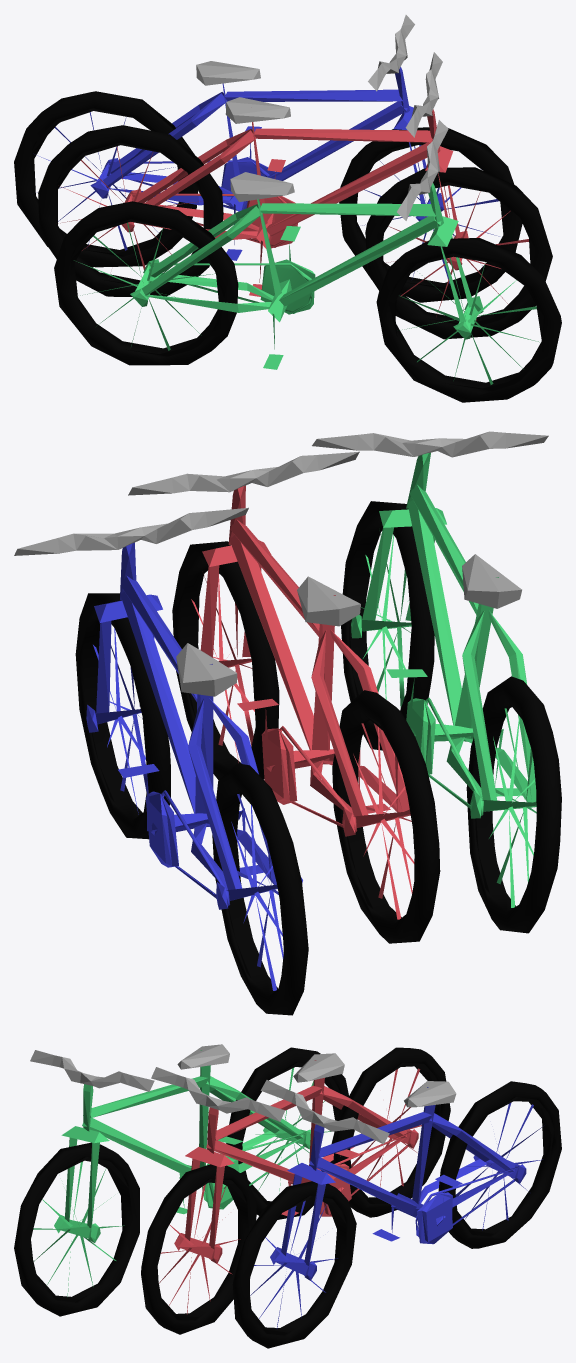
Rendered from bikes.fbx.
3 views of the same model, one above another, from view 1: azimuth 30°, elevation 25°; view 2: azimuth 150°, elevation 25°; view 3: azimuth 270°, elevation 25° (orthographic). The views are drawn at different scales.
Parts seen in each view (by area): view 1: Object010.001, Object010.002, Object010.003; view 2: Object010.003, Object010.002, Object010.001; view 3: Object010.003, Object010.002, Object010.001.
Boxes of the visible parts, bbox=[...] form: Object010.001: bbox=[54, 120, 561, 402]; Object010.002: bbox=[38, 52, 552, 339]; Object010.003: bbox=[14, 15, 522, 302]; Object010.003: bbox=[14, 507, 308, 1015]; Object010.002: bbox=[128, 451, 440, 943]; Object010.001: bbox=[312, 431, 561, 933]; Object010.003: bbox=[232, 1080, 561, 1348]; Object010.002: bbox=[141, 1047, 450, 1334]; Object010.001: bbox=[14, 1044, 348, 1316].
Size of the model in its own units: 2.35 by 1.38 by 2.92.
